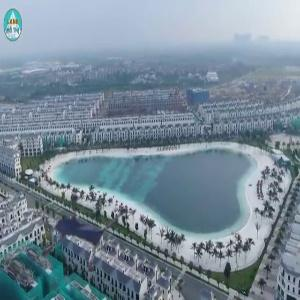drone: (19, 156, 155, 292)
